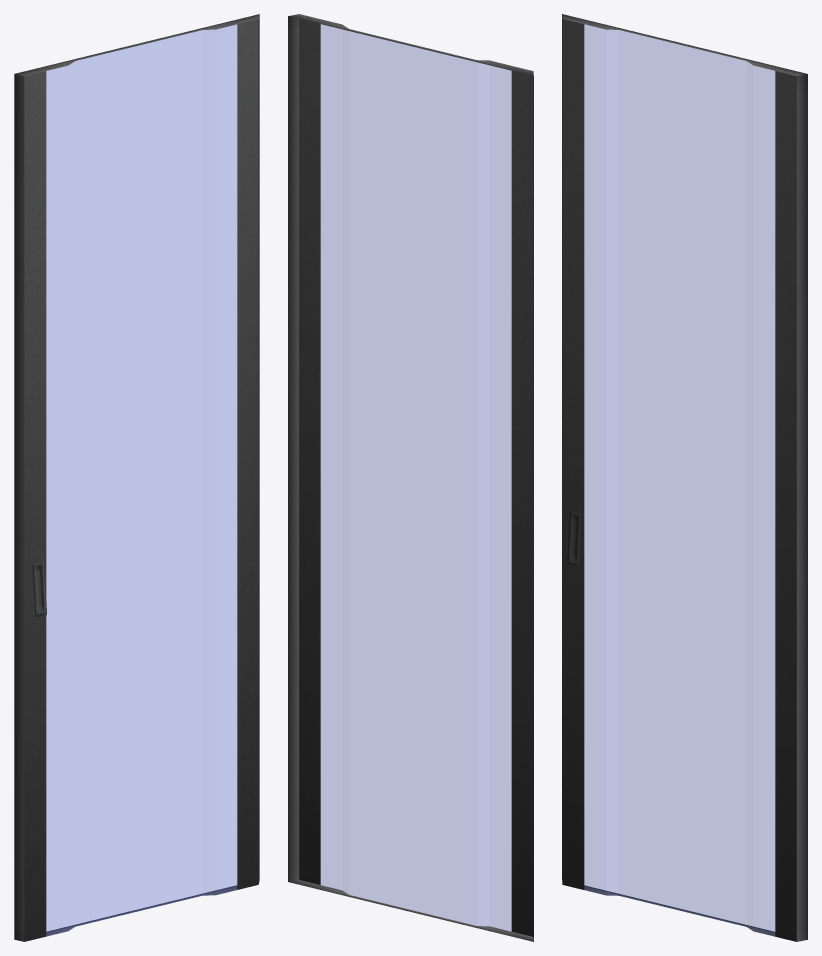
File: 门玻璃.obj
3 renders of one model, left to right at view 1: azimuth 30°, elevation 25°; view 2: azimuth 150°, elevation 25°; view 3: azimuth 330°, elevation 25°, orthographic.
Visible parts, largest first — view 1: object 2, Box001, Rectangle001; view 2: object 2, Box001; view 3: object 2, Box001, Rectangle001.
Part boxes in pixels (x1,y1,x2,y2): object 2: [46, 25, 236, 935]; Box001: [14, 14, 259, 941]; Rectangle001: [30, 556, 46, 618]; object 2: [321, 24, 511, 930]; Box001: [288, 14, 533, 941]; object 2: [584, 25, 774, 936]; Box001: [562, 14, 807, 941]; Rectangle001: [565, 505, 581, 567].
Bounding box in the file's own units: 60 × 202 × 3.39.
